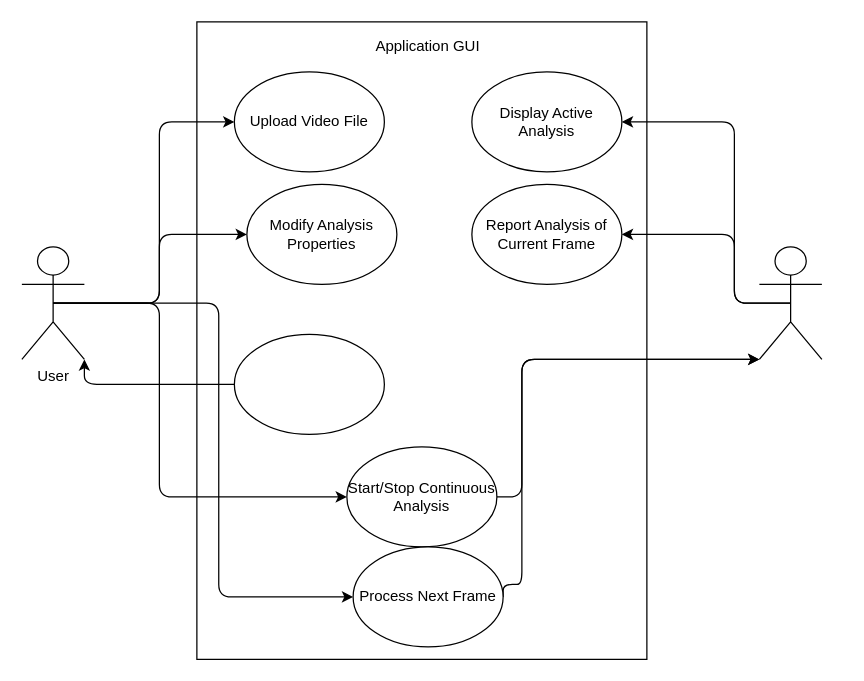
The diagram is 864 pixels wide and 681 high, and some of its shapes have lost their labels. Here are the shapes that lost their labels. From the top down, the centre of each, then its label:
the point at 790,302: Image Analyzer
the point at 308,383: Export as xModel
